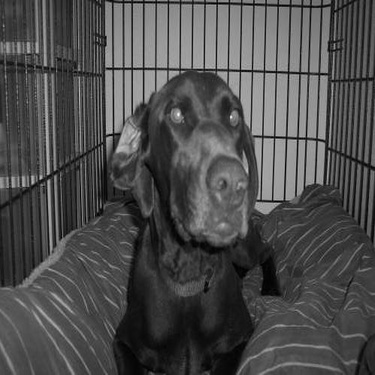dog: (95, 56, 283, 373)
